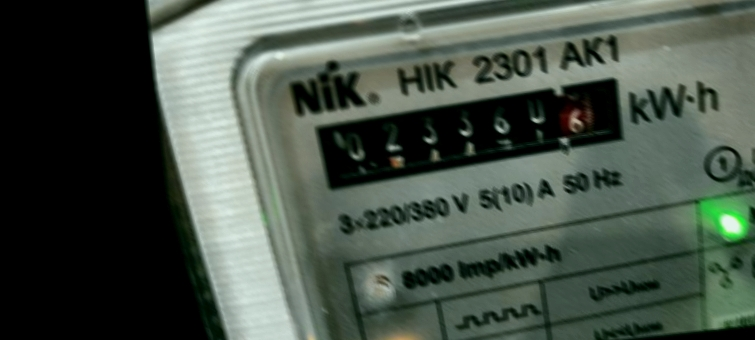0: (342, 126, 368, 162), (522, 92, 548, 125)
2: (380, 117, 404, 152)
3: (453, 102, 476, 137), (416, 112, 438, 145)
6: (488, 100, 513, 135), (564, 101, 588, 136)
screen: (297, 65, 643, 196)
